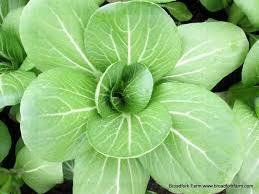Healthy-Pechay: (13, 6, 251, 185)
